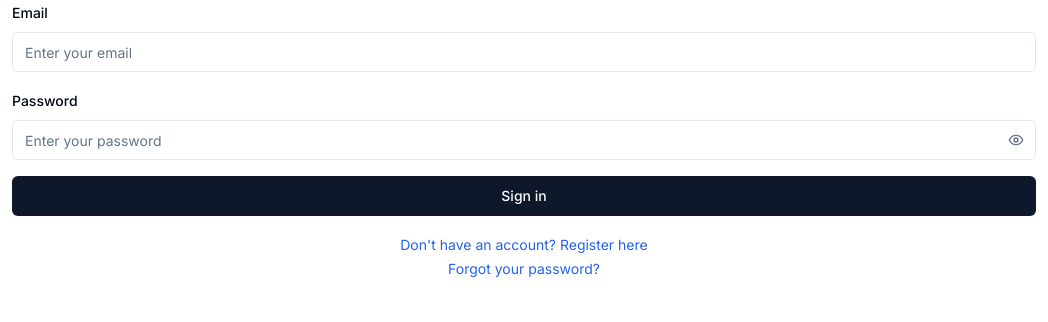
Test: LoginForm Component › Form Validation › should validate password minimum length
The image size is (1048, 322).
Type "test@example.com" into the field with test id "email-input" at point(524, 52), box left=12, top=32, right=1036, bottom=72
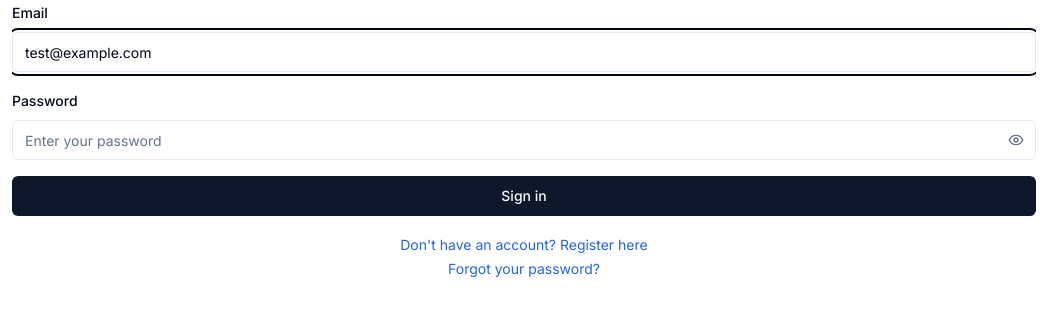
Type "123" into the password field with test id "password-input" at point(524, 140), box left=12, top=120, right=1036, bottom=160
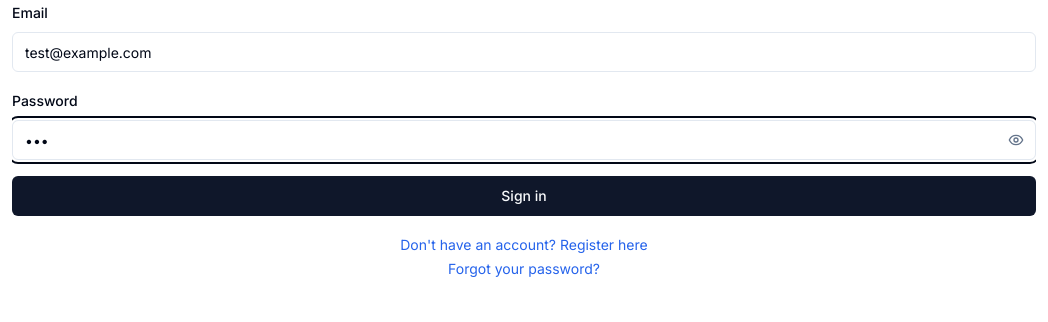
Click the button with test id "login-button" at point(524, 196), box left=12, top=176, right=1036, bottom=216
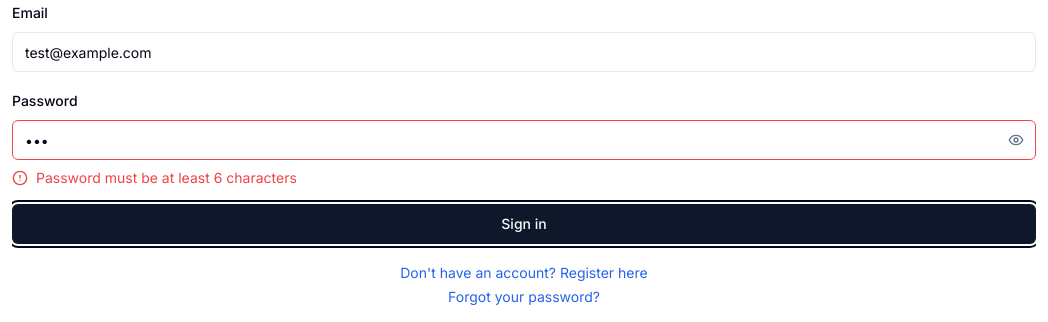
Now the text "Password must be at least 6 characters" is shown, box left=36, top=168, right=297, bottom=188
